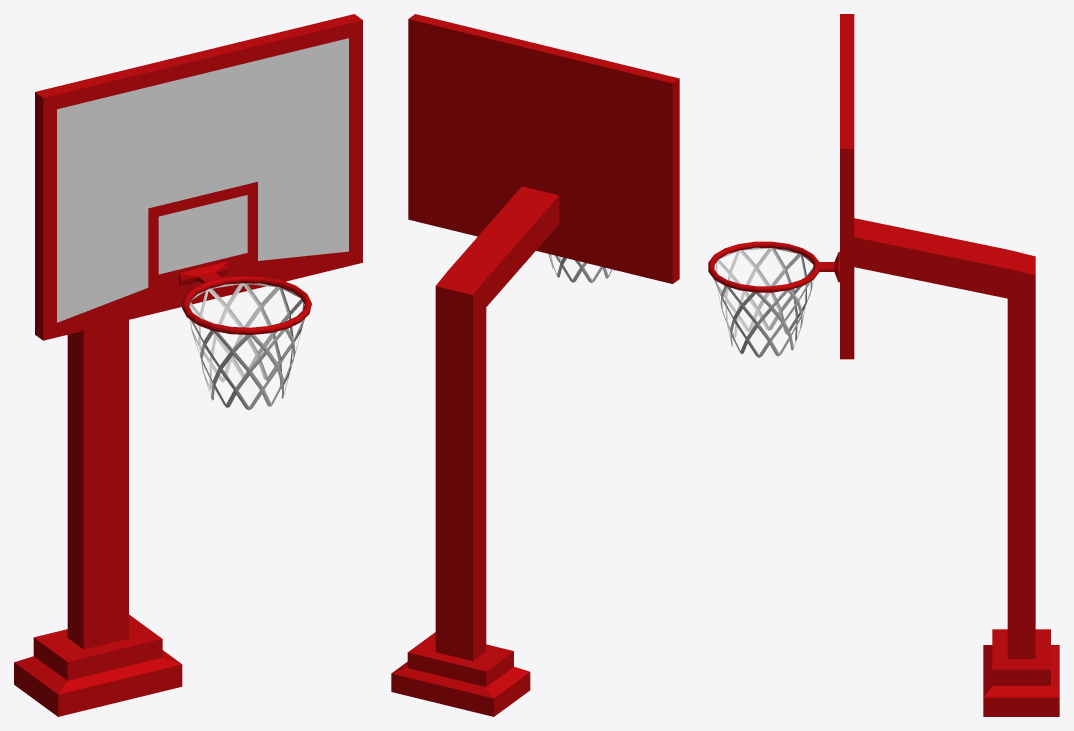
Rendered from fbxBasketballkorb.fbx.
The picture shows the model from 3 angles, left to right: view 1: azimuth 30°, elevation 25°; view 2: azimuth 150°, elevation 25°; view 3: azimuth 270°, elevation 25°; orthographic projection. The views are drawn at different scales.
Parts seen in each view (by area): view 1: Basketballkorb; view 2: Basketballkorb; view 3: Basketballkorb.
Part boxes in pixels (x1,y1,x2,y2): Basketballkorb: (14,14,362,716); Basketballkorb: (391,14,679,716); Basketballkorb: (708,14,1059,716).
Bounding box in the file's own units: 200 × 420 × 220.
